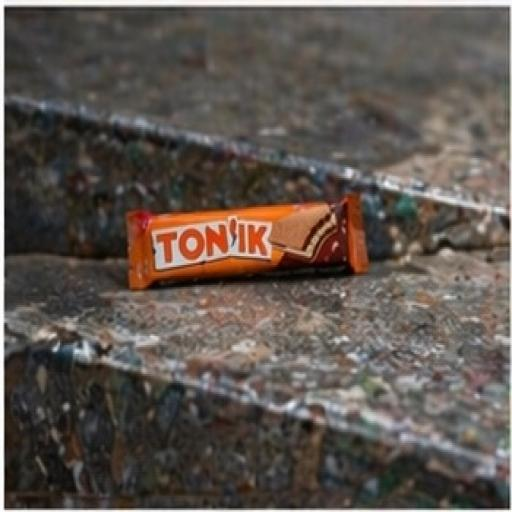tonik: (79, 112, 426, 345)
